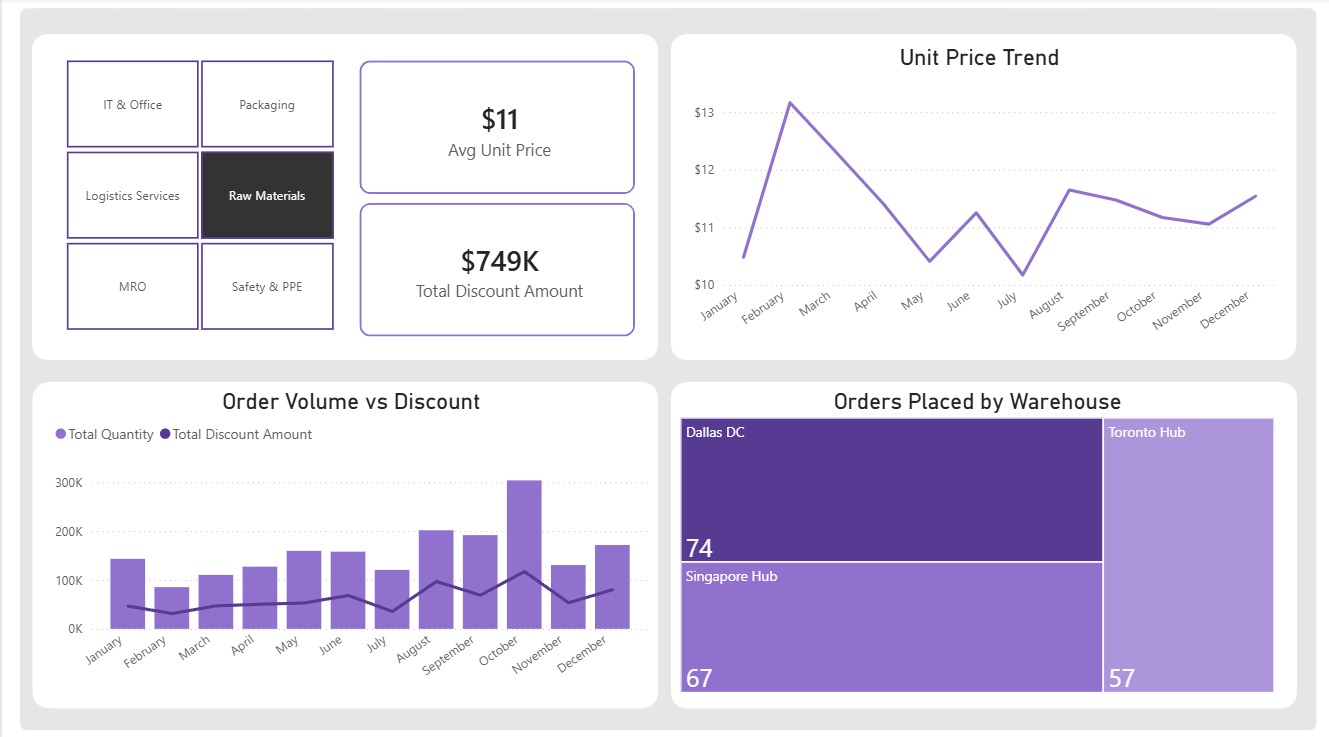

The dashboard page shown, as its layout file describes it:
{"tool":"powerbi","page":{"name":"Discount Analysis","canvas":[1280,720],"ordinal":2},"visuals":[{"type":"lineChart","title":"Unit Price Trend","fields":{"Category":["dim_date.month_name"],"Y":["fact_purchase_orders.Avg Unit Price"]},"box":[653.9,44.6,579.1,300.4],"z":1000},{"type":"lineStackedColumnComboChart","title":"Order Volume vs Discount","fields":{"Category":["dim_date.month_name"],"Y2":["fact_purchase_orders.Total Discount Amount"],"Y":["fact_purchase_orders.Total Quantity"]},"box":[45.8,376.4,582.7,300.4],"z":4000},{"type":"slicer","fields":{"Values":["dim_suppliers.category_focus"]},"box":[36.2,53.1,307.6,273.9],"z":5000},{"type":"treemap","title":"Orders Placed by Warehouse","fields":{"Values":["fact_purchase_orders.Total Orders"],"Group":["dim_warehouses.warehouse_name"]},"box":[650.3,376.4,582.7,299.2],"z":5001},{"type":"cardVisual","fields":{"Data":["fact_purchase_orders.Avg Unit Price","fact_purchase_orders.Total Discount Amount"]},"box":[328.2,43.4,300.4,300.4],"z":5002}]}

Visuals, with their boxes in screenshot pixels (x1, y1, x2, y2), scaled from the page's 1280x720 canvas onto the 1329x737 screenshot:
"Unit Price Trend" lineChart: {"left": 679, "top": 46, "right": 1280, "bottom": 353}
"Order Volume vs Discount" lineStackedColumnComboChart: {"left": 48, "top": 385, "right": 653, "bottom": 693}
slicer - dim_suppliers.category_focus: {"left": 38, "top": 54, "right": 357, "bottom": 335}
"Orders Placed by Warehouse" treemap: {"left": 675, "top": 385, "right": 1280, "bottom": 692}
cardVisual - fact_purchase_orders.Avg Unit Price x fact_purchase_orders.Total Discount Amount: {"left": 341, "top": 44, "right": 653, "bottom": 352}
